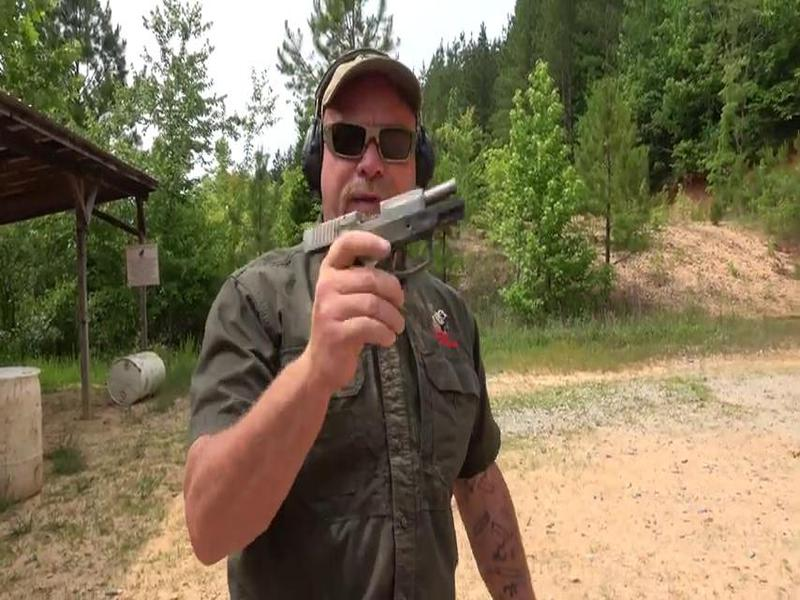Pistola: (287, 178, 502, 384)
